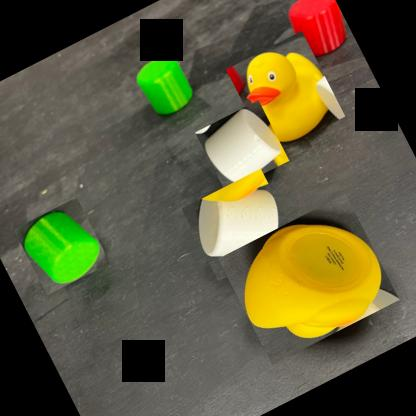duck: (218, 193, 400, 364), (226, 30, 345, 154)
green cylinder: (13, 196, 110, 295), (129, 47, 200, 123)
red cylinder: (277, 0, 356, 65)
white cylinder: (181, 168, 297, 280), (195, 100, 289, 192)
